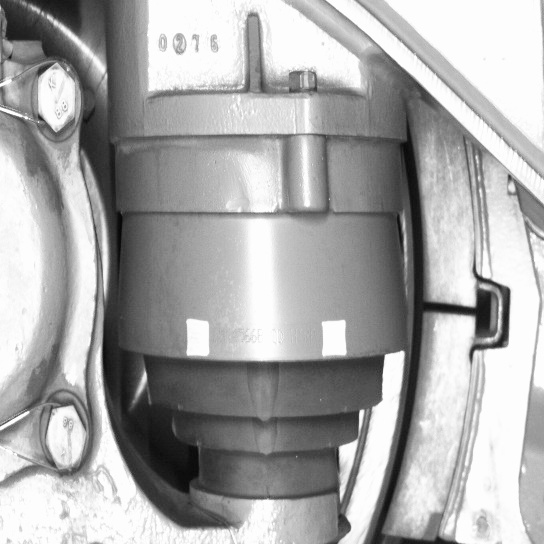KnifeSwitch: (359, 137, 492, 542)
